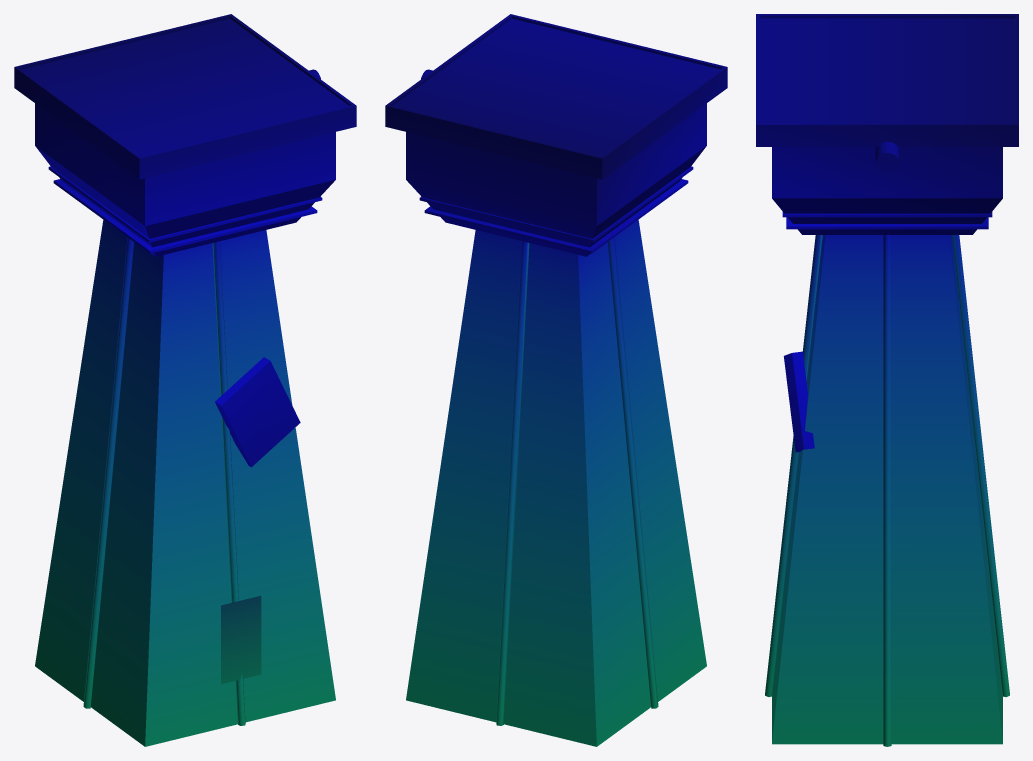
File: guntower_damaged.glb
3 views of the same model, side by side, from view 1: azimuth 30°, elevation 25°; view 2: azimuth 150°, elevation 25°; view 3: azimuth 270°, elevation 25° (orthographic). The views are drawn at different scales.
Parts seen in each view (by area): view 1: lod0_Base; view 2: lod0_Base; view 3: lod0_Base, lod0_Turret.
Part boxes in pixels (x1,y1,x2,y2): lod0_Base: [14, 14, 356, 746]; lod0_Base: [385, 14, 727, 746]; lod0_Base: [756, 14, 1018, 746]; lod0_Turret: [875, 141, 899, 174].
Size of the model in its own units: 4.76 by 11.36 by 4.32.
